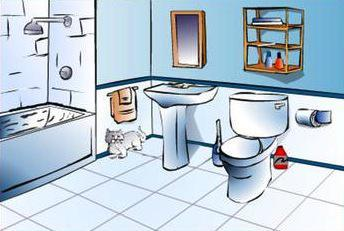bottle: (270, 139, 289, 169), (273, 51, 285, 69), (264, 50, 273, 66)
cat: (102, 126, 148, 158)
